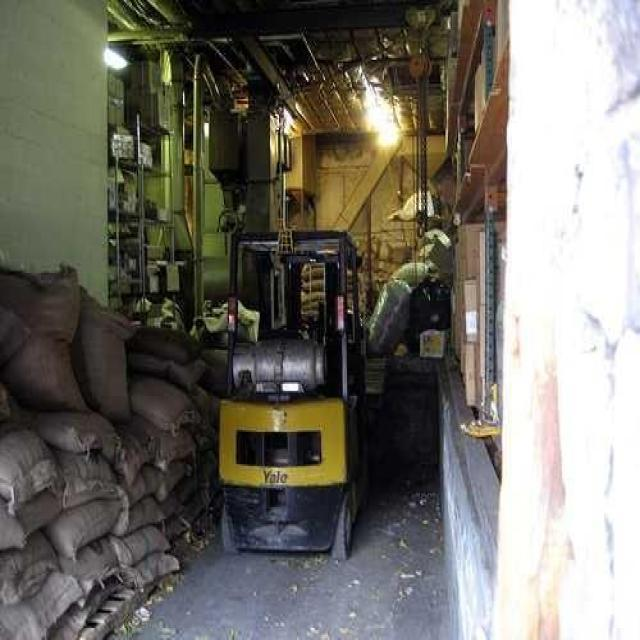forklift: (214, 220, 364, 560)
